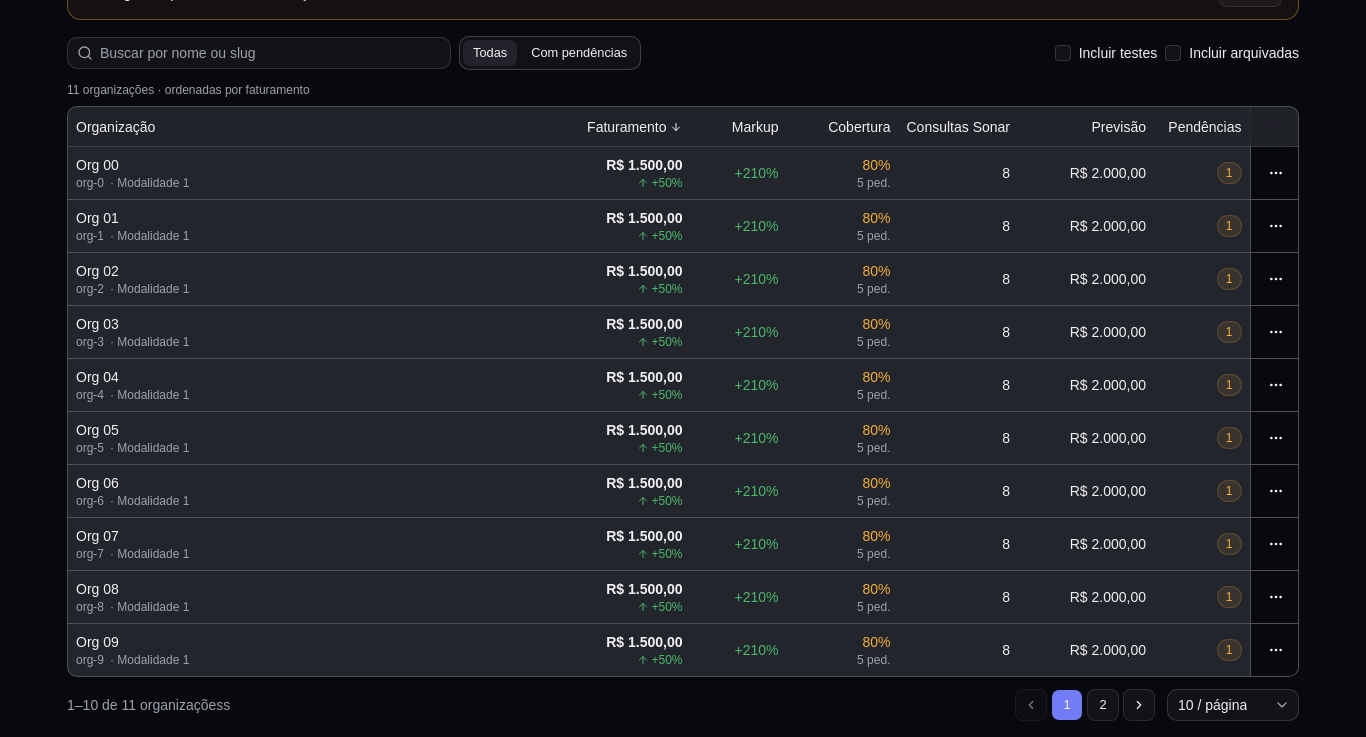
Test: Organizacoes › arquivar organização (ADR-0175) › arquivar a única org da última página volta para a página anterior
This screenshot has width=1366, height=737.
(page scrolled)
Click the button named "Próxima página" at (1139, 705), box left=1123, top=689, right=1155, bottom=721
(page scrolled)
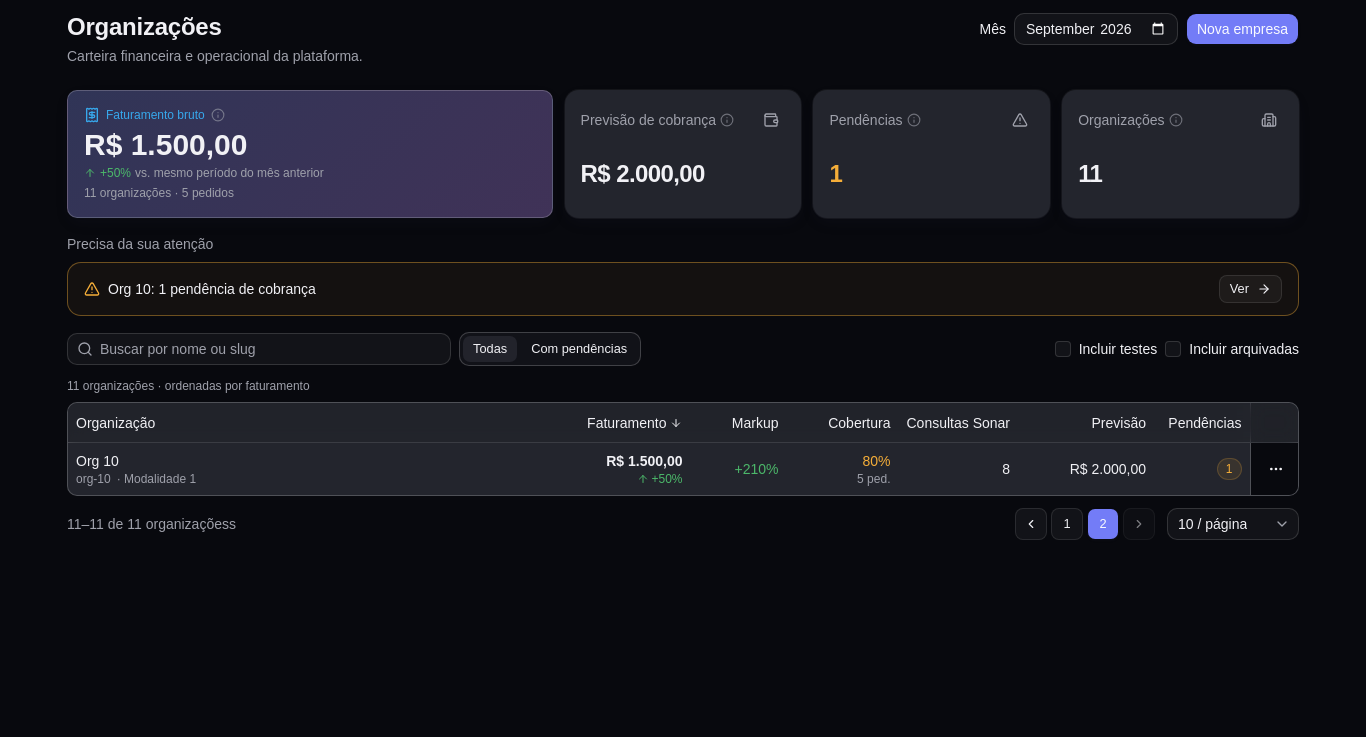
Result: the link "Org 10" is shown at left=76, top=451, right=119, bottom=471
Click the button named "Ações" at (1276, 469), box left=1262, top=455, right=1290, bottom=483
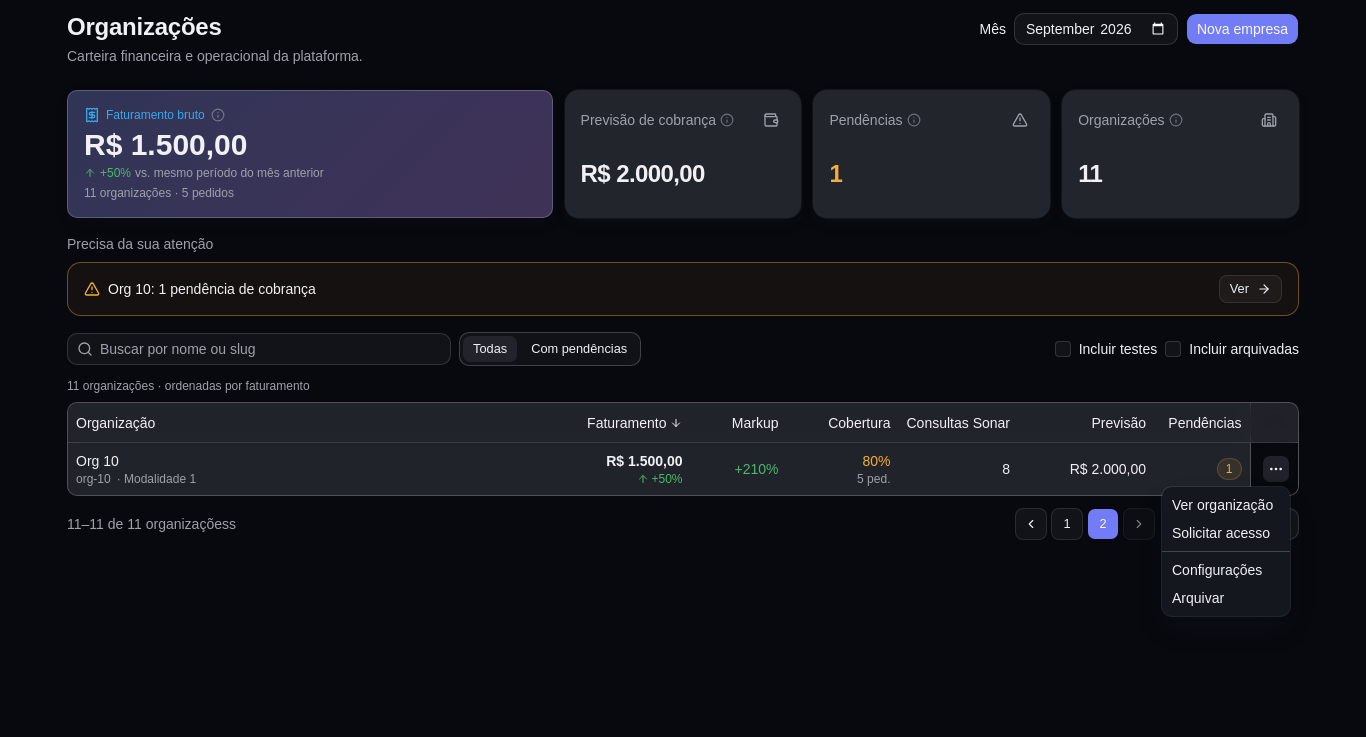
Click the menu item "Arquivar" at (1198, 598), box left=1172, top=590, right=1224, bottom=606
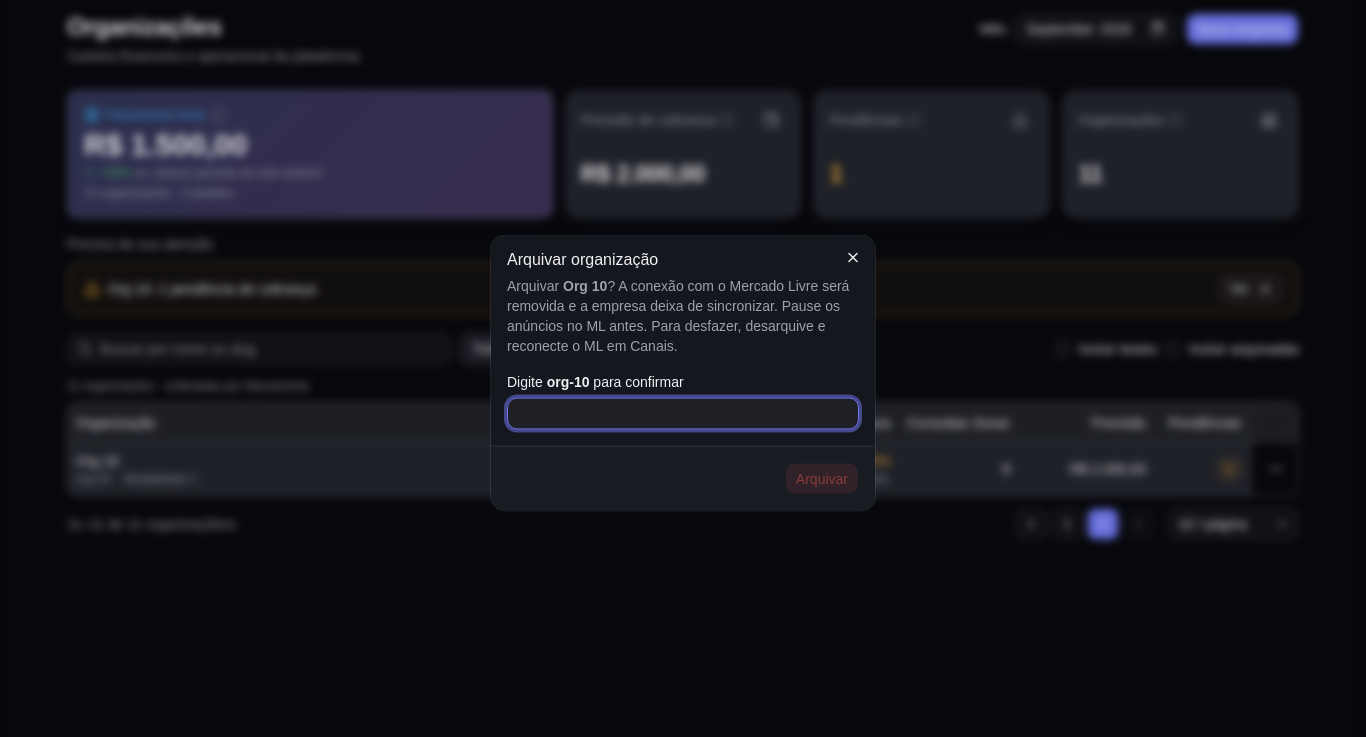
Type "org-10" into the field labelled "Digite org-10 para confirmar" at (683, 414), box left=507, top=398, right=859, bottom=430
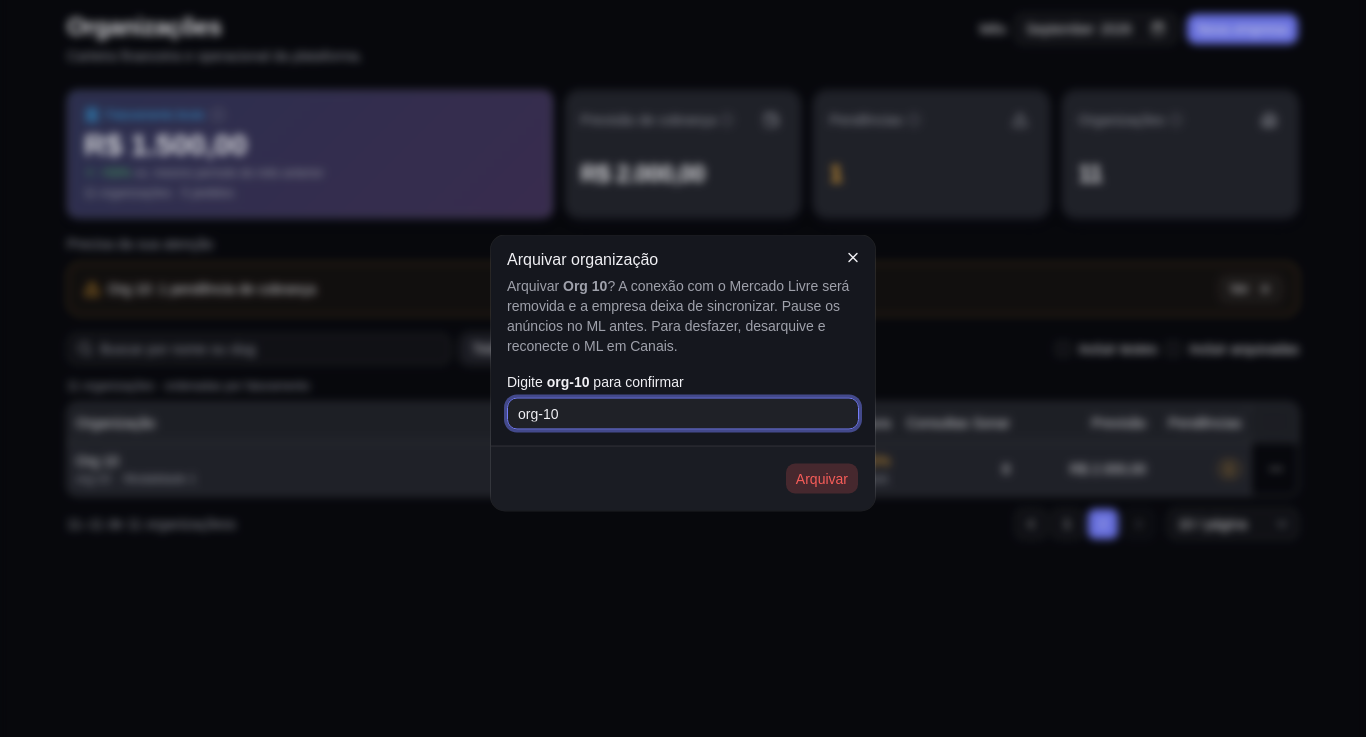
Click the button "Arquivar" at (822, 478), box left=785, top=462, right=859, bottom=494
(page scrolled)
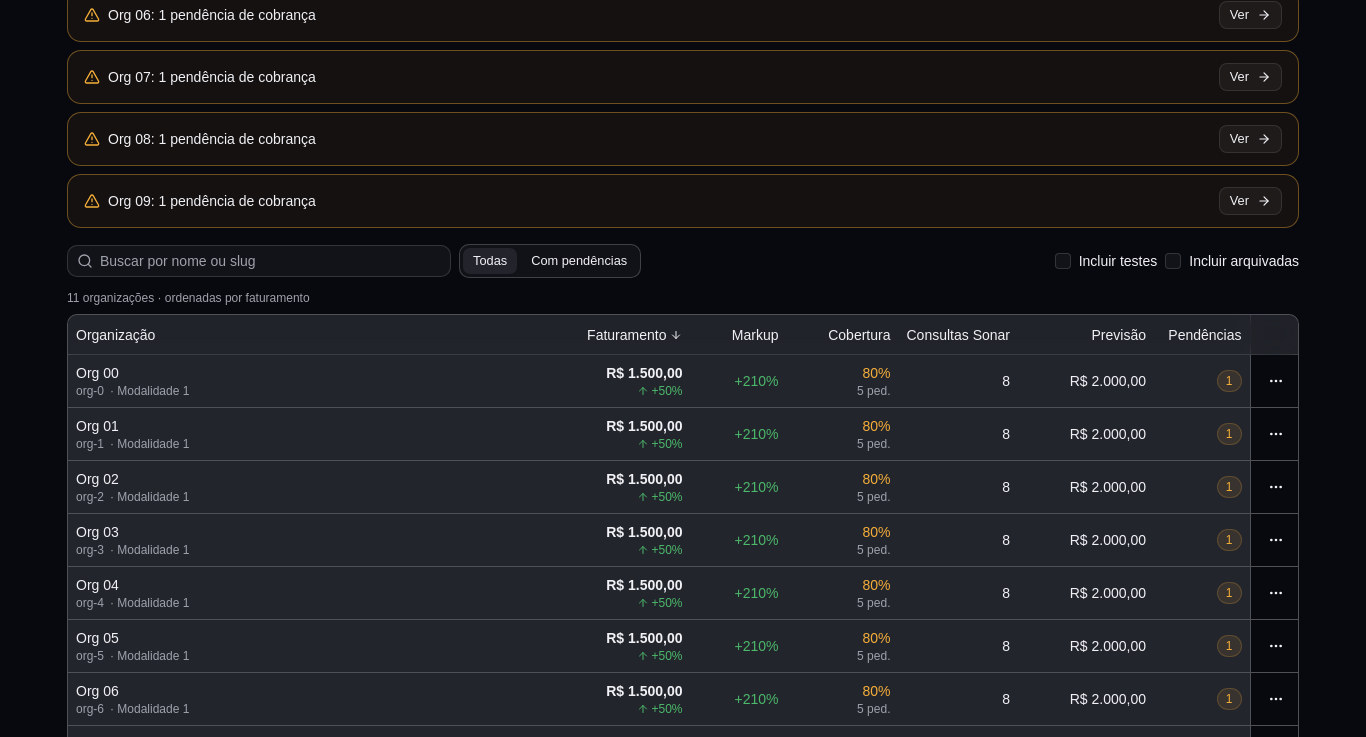
Result: the link "Org 00" is shown at left=76, top=363, right=119, bottom=383
Result: the text "Org 10" is gone
